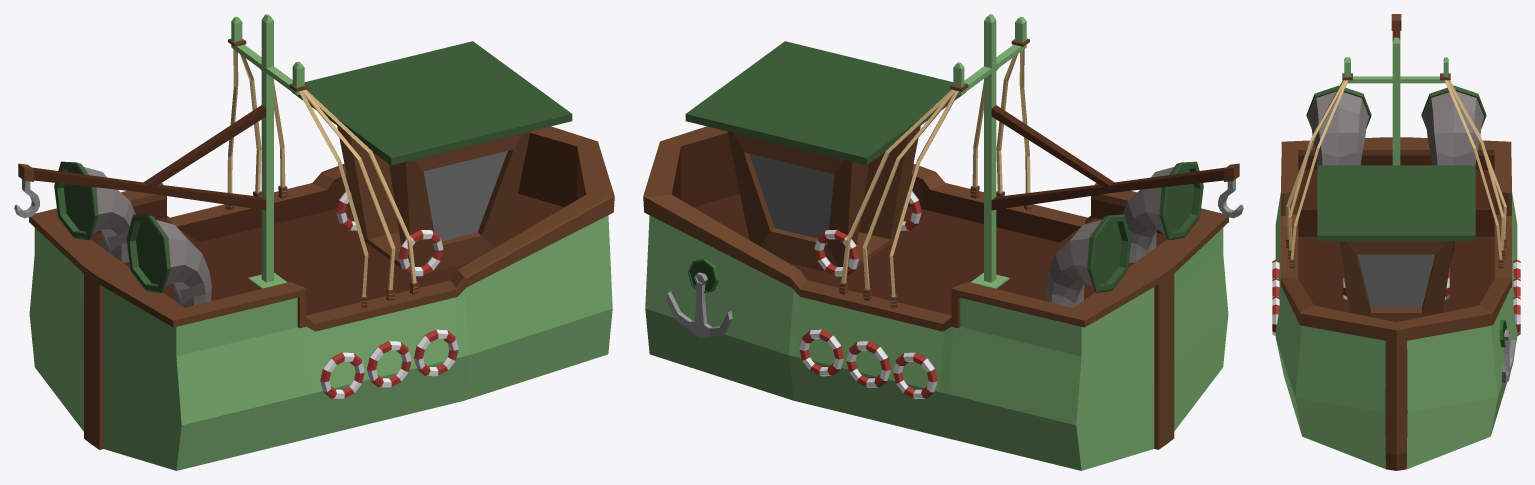
The model's file is GreenBoat.fbx.
3 views of the same model, side by side, from view 1: azimuth 30°, elevation 25°; view 2: azimuth 150°, elevation 25°; view 3: azimuth 270°, elevation 25° (orthographic). The views are drawn at different scales.
Parts seen in each view (by area): view 1: GreenBoat; view 2: GreenBoat; view 3: GreenBoat.
Part boxes in pixels (box(x1,y1,x2,y2)): GreenBoat: box(14, 14, 614, 470); GreenBoat: box(643, 14, 1243, 470); GreenBoat: box(1272, 14, 1520, 470).
Size of the model in its own units: 1234 by 804 by 573.
